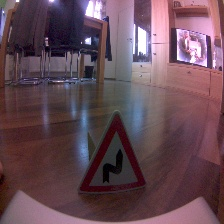vorsicht: (75, 110, 153, 195)
